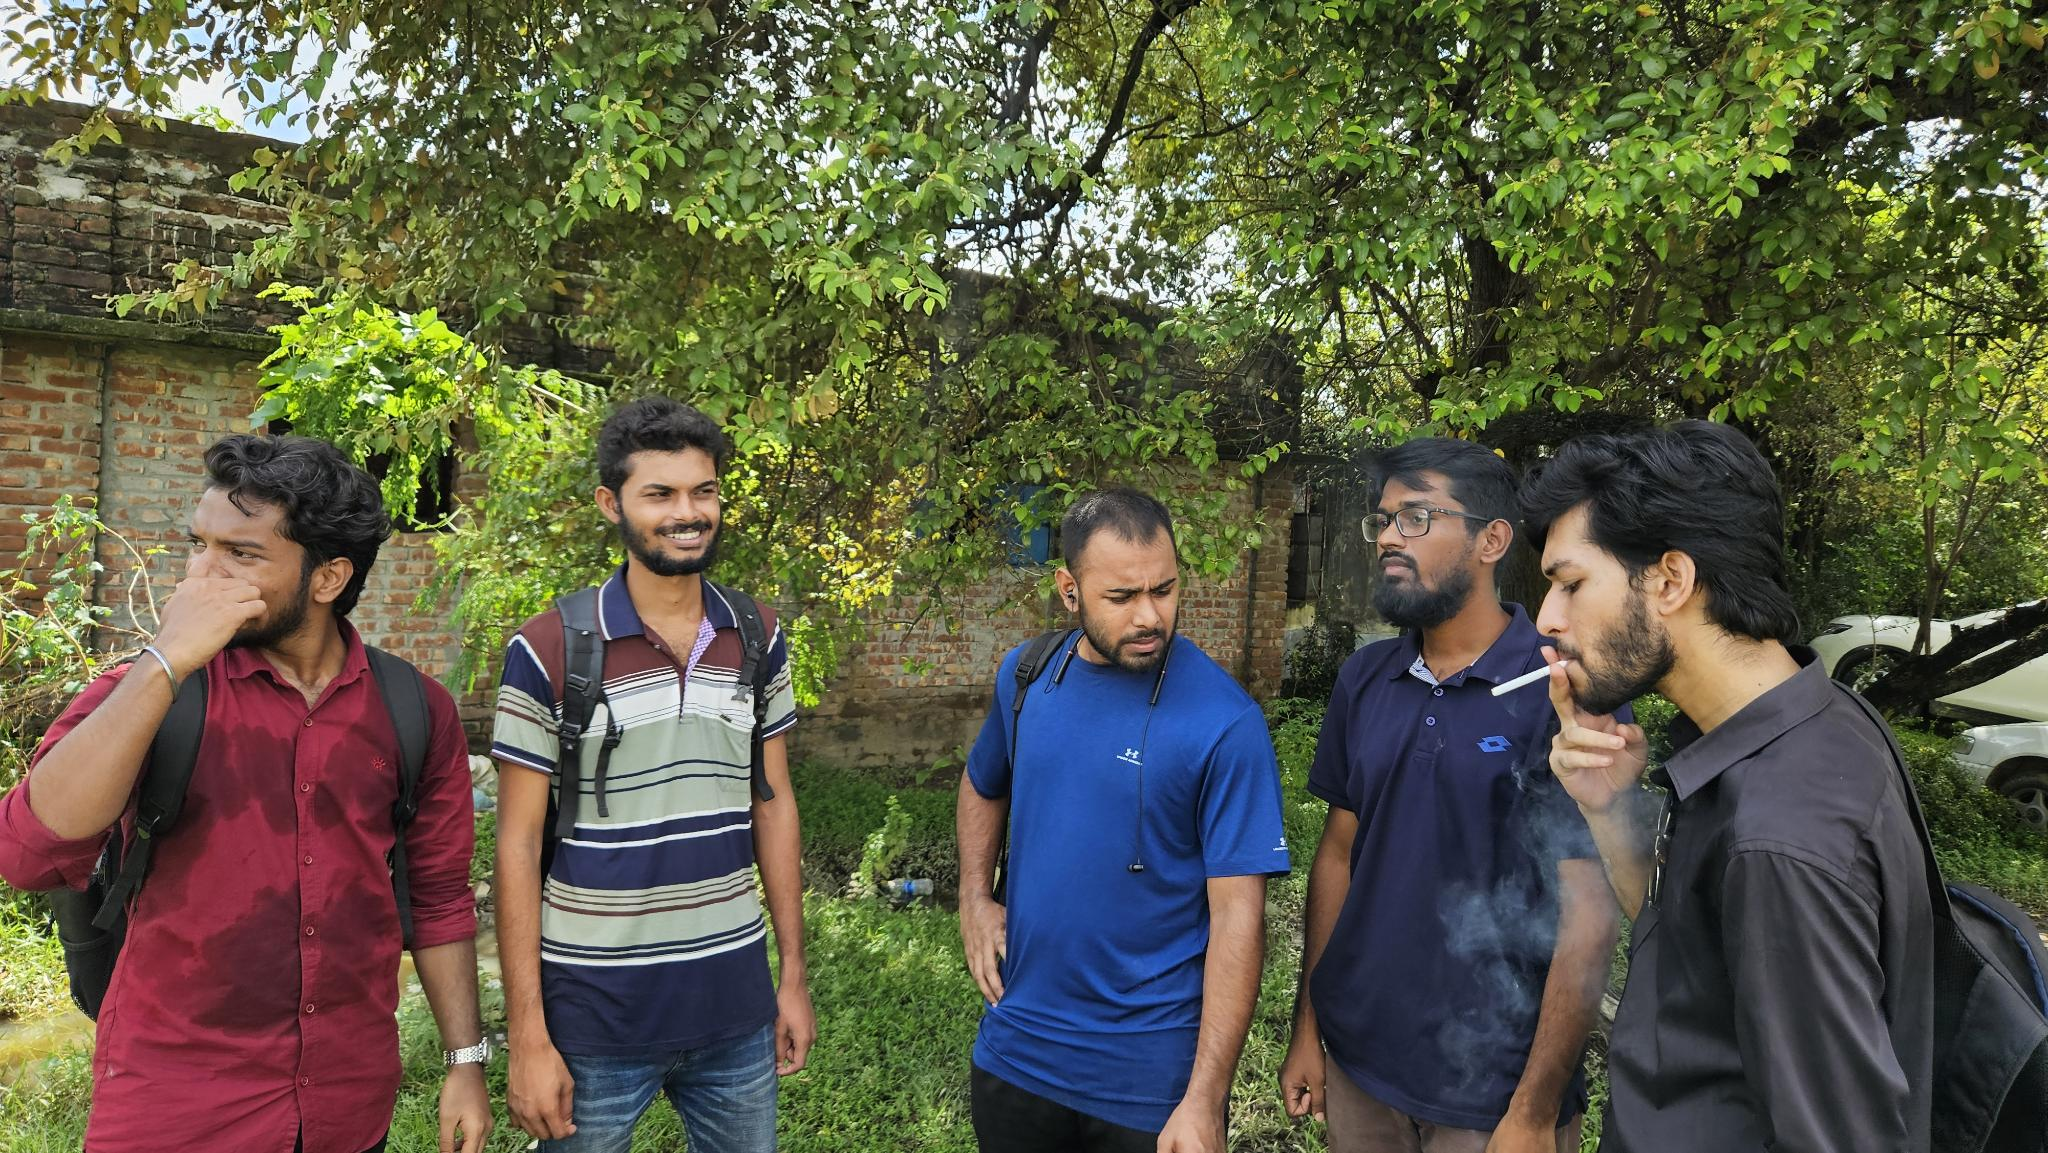cigarette: (1490, 658, 1571, 700)
nonSmoker: (0, 432, 488, 1153), (491, 395, 819, 1153), (1281, 433, 1622, 1153), (951, 489, 1293, 1153)
smoker: (1518, 418, 2048, 1153)
